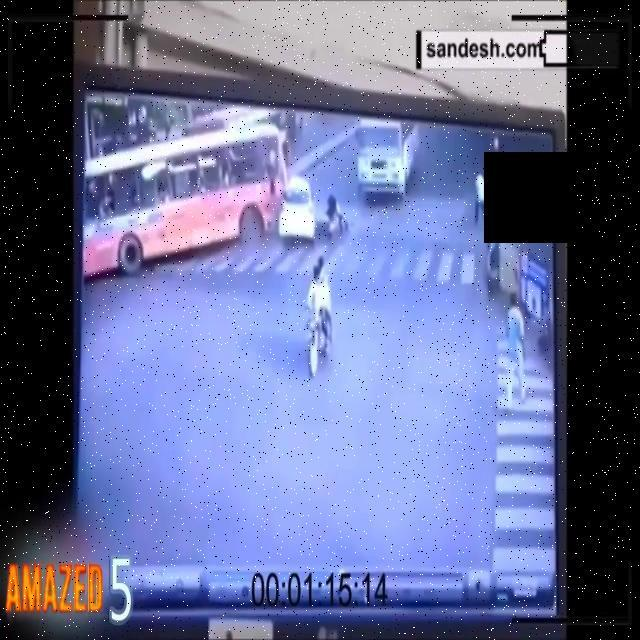severe: (80, 115, 316, 286)
